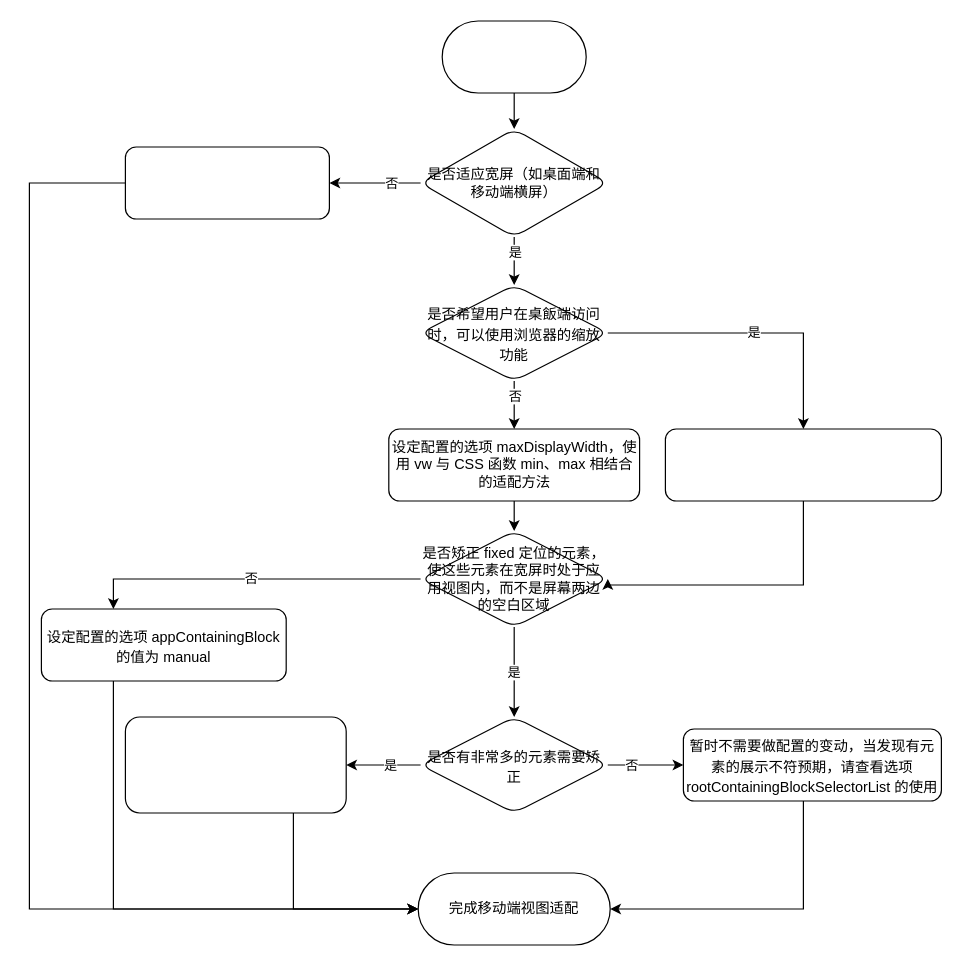
The diagram is 962 pixels wide and 966 high, and some of its shapes have lost their labels. Here are the shapes that lost their labels. From the top down, the centre of each, then its label:
At [513,56]: "移动端视图适配".
At [226,182]: "设置配置的选项 viewportWidth，使用 vw 适配方法".
At [802,464]: "设定配置的选项 enableMediaQuery，使用媒体查询适配方法".
At [235,764]: "设定配置的选项 appContainingBlock 的值为 auto，并设定选项 necessarySelectorWhenAuto".
